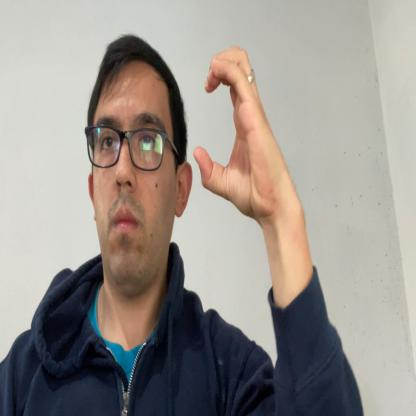C: (193, 44, 277, 224)
